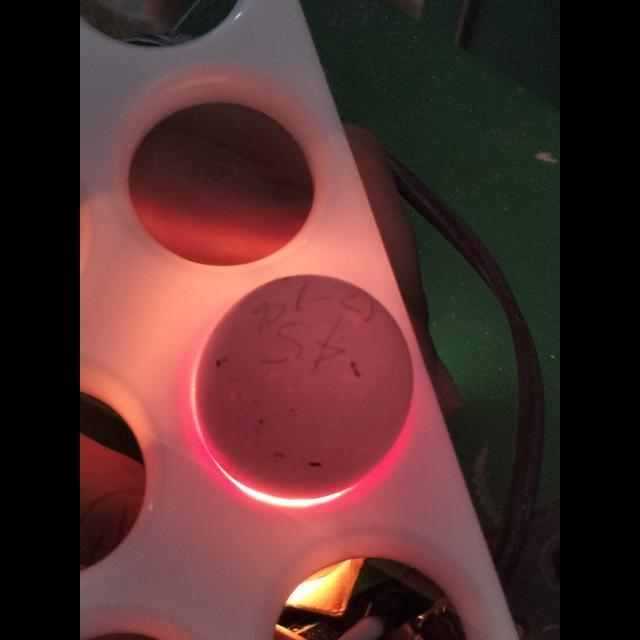A - Good: (189, 263, 420, 517)
